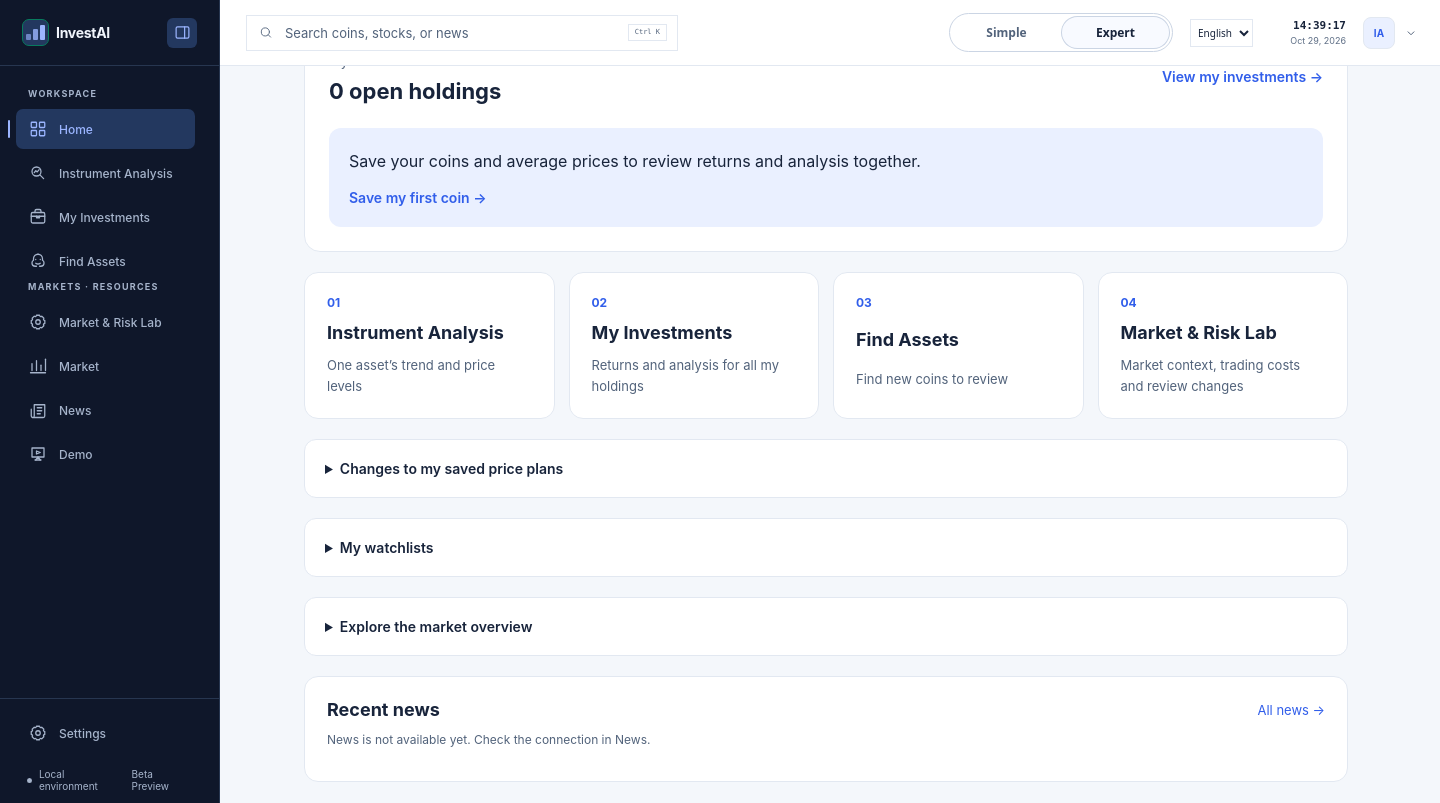
Test: WatchlistManager drag safety › shows expanded Explorer favorites in the Dashboard without an Unavailable row
(page scrolled)
Click the heading "My watchlists". click: (387, 548)
box: [340,540,433,556]
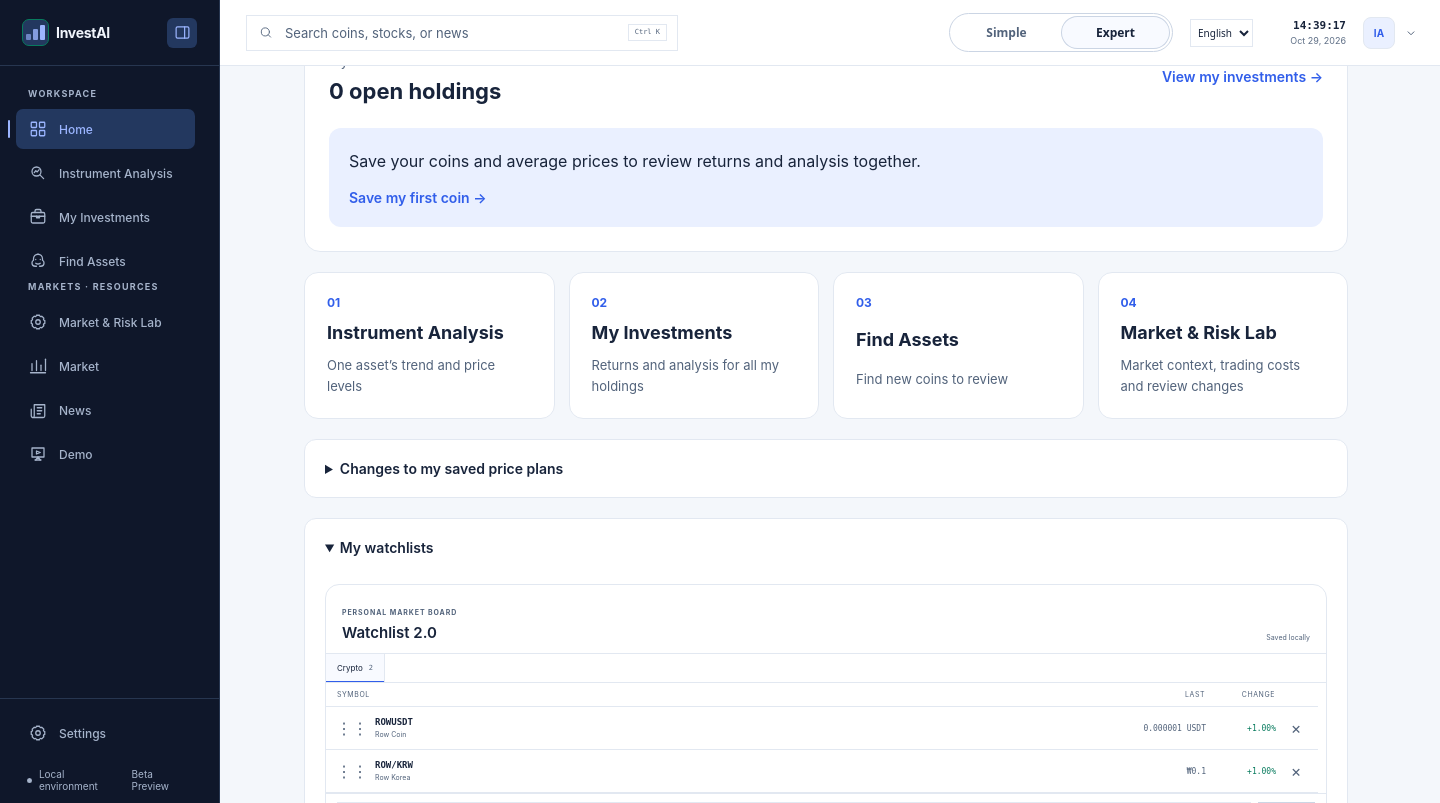
Check: the text "ROWUSDT" is shown, box [375,718,413,728]
Check: the text "ROW/KRW" is shown, box [375,760,413,770]
Check: the text "0.000001 USDT" is shown, box [1143,724,1206,733]
